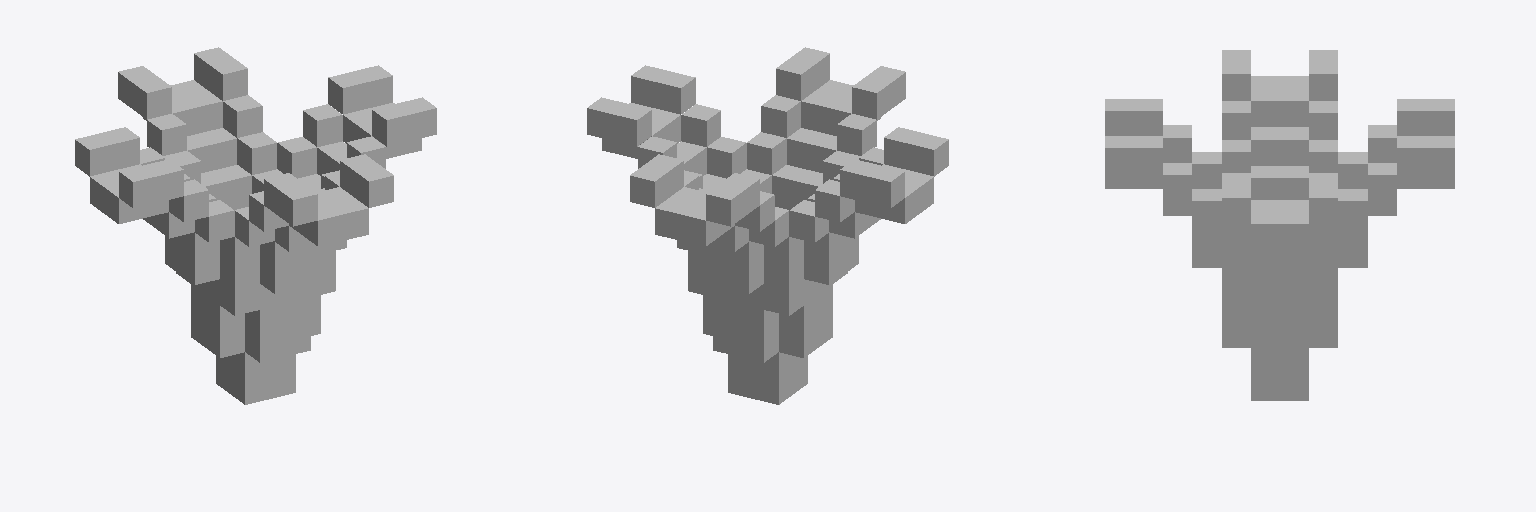
File: corn_bottom.obj
The picture shows the model from 3 angles: view 1: azimuth 30°, elevation 25°; view 2: azimuth 150°, elevation 25°; view 3: azimuth 270°, elevation 25°; orthographic projection.
Parts seen in each view (by area): view 1: Box001, Box034, Box086, Box005, Box015, Box076, Box082, Box008, Box057, Box021, Box018, Box004 (+28 smaller); view 2: Box001, Box037, Box077, Box006, Box017, Box085, Box090, Box010, Box057, Box019, Box018, Box004 (+28 smaller); view 3: Box001, Box050, Box055, Box068, Box022, Box035, Box036, Box007, Box016, Box003, Box038, Box045 (+28 smaller).
Boxes of the visible parts, box(x1,y1,x2,y2) form: Box001: box(216, 352, 295, 404); Box034: box(220, 237, 259, 315); Box086: box(304, 198, 368, 246); Box005: box(245, 324, 310, 362); Box015: box(260, 255, 324, 293); Box076: box(172, 91, 222, 135); Box082: box(187, 128, 236, 172); Box008: box(245, 298, 310, 335); Box057: box(90, 170, 143, 223); Box021: box(201, 165, 251, 206); Box018: box(165, 238, 219, 284); Box004: box(191, 311, 244, 357); Box001: box(728, 352, 807, 404); Box037: box(764, 237, 803, 315); Box077: box(655, 198, 719, 246); Box006: box(713, 324, 778, 362); Box017: box(699, 255, 763, 293); Box085: box(801, 91, 851, 135); Box090: box(787, 128, 836, 172); Box010: box(713, 298, 778, 335); Box057: box(880, 170, 933, 223); Box019: box(772, 165, 822, 206); Box018: box(804, 238, 858, 284); Box004: box(779, 311, 832, 357); Box001: box(1251, 360, 1308, 400); Box050: box(1251, 127, 1308, 165); Box055: box(1251, 88, 1308, 126); Box068: box(1251, 212, 1308, 250); Box022: box(1251, 166, 1308, 199); Box035: box(1222, 240, 1250, 306); Box036: box(1309, 240, 1337, 306); Box007: box(1251, 307, 1308, 333); Box016: box(1251, 266, 1308, 292); Box003: box(1251, 334, 1308, 359); Box038: box(1192, 189, 1221, 227); Box045: box(1338, 189, 1367, 227).
Bounding box in the file's own units: 12 × 9.99 × 12.